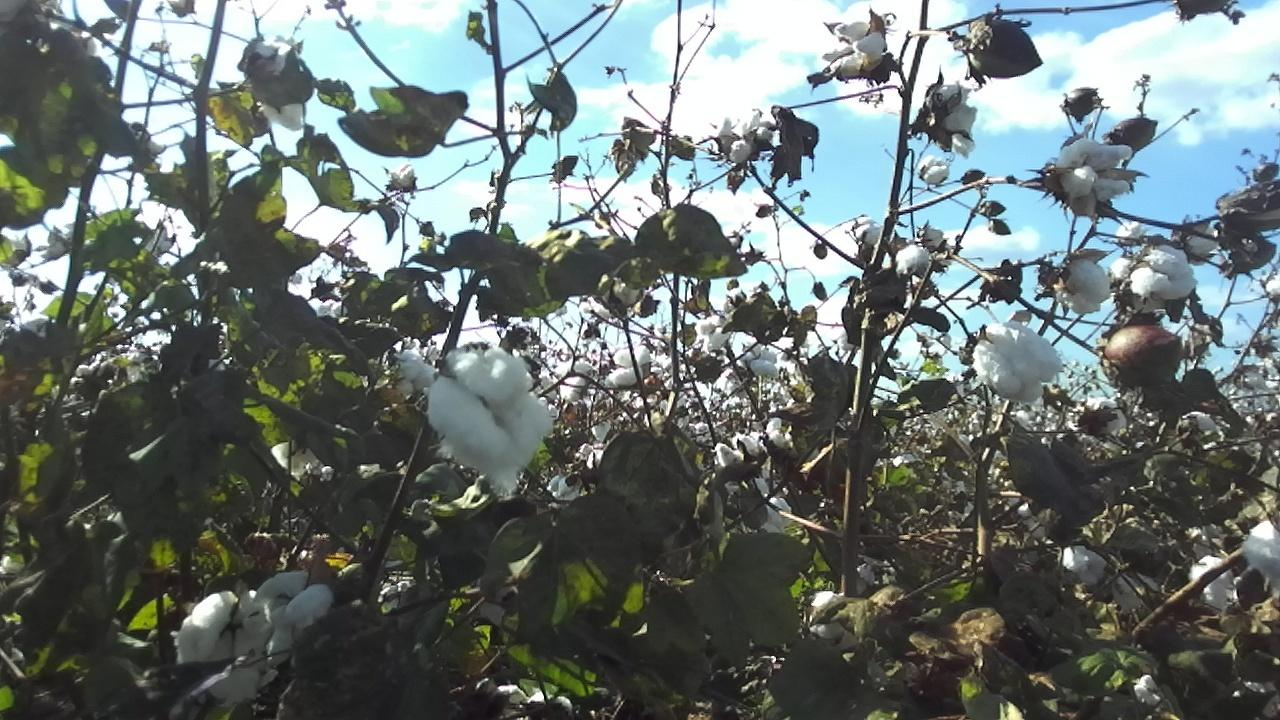cotton_ready: (427, 349, 552, 500), (177, 587, 285, 715), (253, 570, 339, 670), (972, 320, 1064, 409), (1054, 137, 1137, 200), (1109, 244, 1199, 301), (261, 44, 310, 132), (820, 20, 887, 77), (928, 84, 979, 157), (714, 110, 777, 164), (1056, 258, 1112, 315), (1242, 517, 1280, 589)
